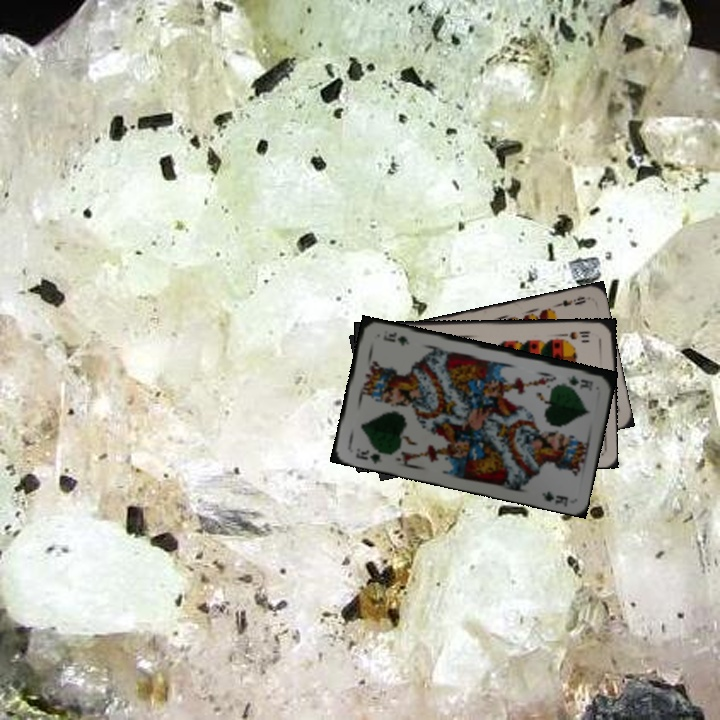E9: (550, 292, 588, 310)
GK: (351, 444, 384, 466), (563, 371, 596, 390)
S10: (558, 327, 593, 342)
